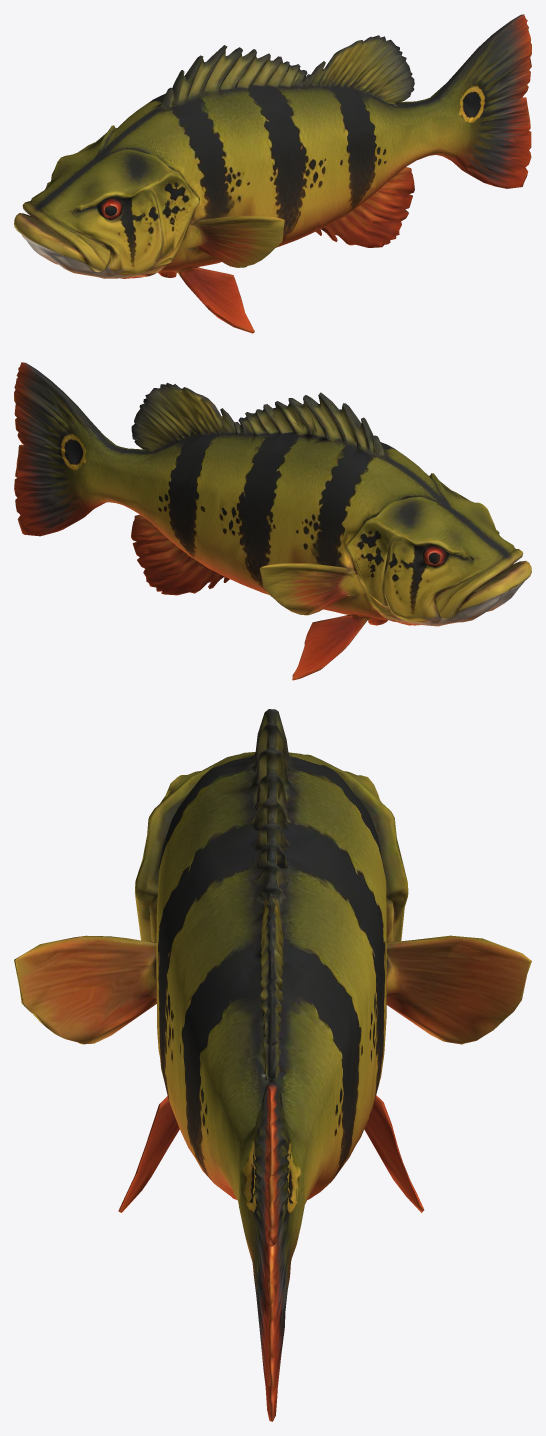
The model's file is fish-pavlin.glb.
3 views of the same model, one above another, from view 1: azimuth 30°, elevation 25°; view 2: azimuth 150°, elevation 25°; view 3: azimuth 270°, elevation 25° (orthographic). The views are drawn at different scales.
Visible parts, largest first — view 1: tripo_node_6fc0a51b-e847-4cee-a169-deddf49349d7; view 2: tripo_node_6fc0a51b-e847-4cee-a169-deddf49349d7; view 3: tripo_node_6fc0a51b-e847-4cee-a169-deddf49349d7.
Boxes of the visible parts, bbox=[...] form: tripo_node_6fc0a51b-e847-4cee-a169-deddf49349d7: bbox=[14, 14, 531, 333]; tripo_node_6fc0a51b-e847-4cee-a169-deddf49349d7: bbox=[14, 362, 531, 680]; tripo_node_6fc0a51b-e847-4cee-a169-deddf49349d7: bbox=[14, 709, 531, 1421].
Size of the model in its own units: 1 by 0.4825 by 0.4518.
Materials: 1 (1 with a texture image).
